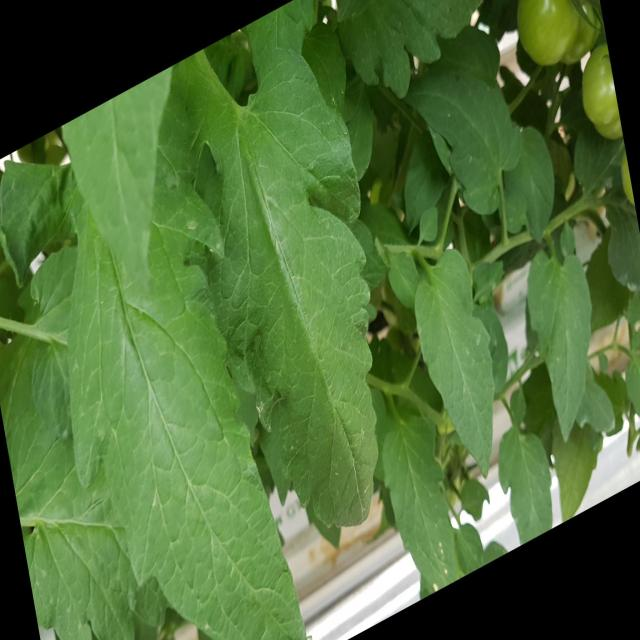Healthy Leaf: (51, 155, 310, 640), (191, 11, 380, 539), (403, 240, 499, 493), (405, 54, 527, 220), (374, 402, 467, 588), (522, 242, 602, 446), (495, 409, 557, 537)
